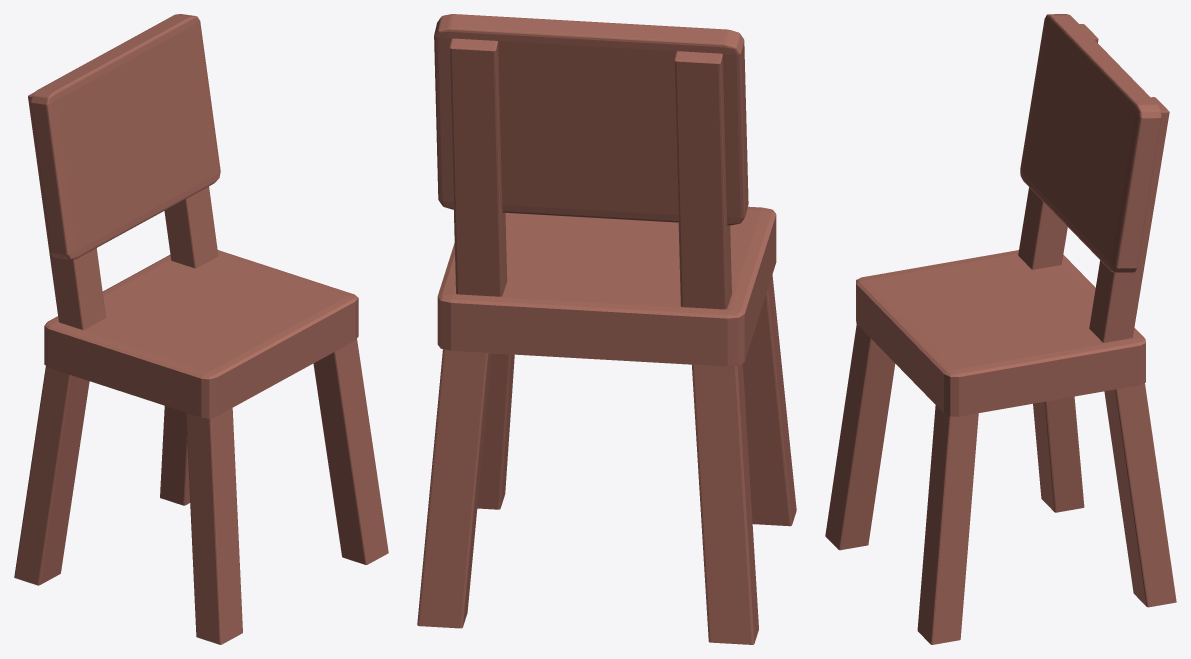
The model's file is Chair_1.glb.
3 views of the same model, side by side, from view 1: azimuth 30°, elevation 25°; view 2: azimuth 150°, elevation 25°; view 3: azimuth 270°, elevation 25° (orthographic). The views are drawn at different scales.
Visible parts, largest first — view 1: Chair_1; view 2: Chair_1; view 3: Chair_1.
Part boxes in pixels (x1=…): Chair_1: x1=14, y1=14, x2=388, y2=644; Chair_1: x1=417, y1=14, x2=796, y2=644; Chair_1: x1=825, y1=14, x2=1176, y2=644.
Bounding box in the file's own units: 1.3 × 1.97 × 1.27.
